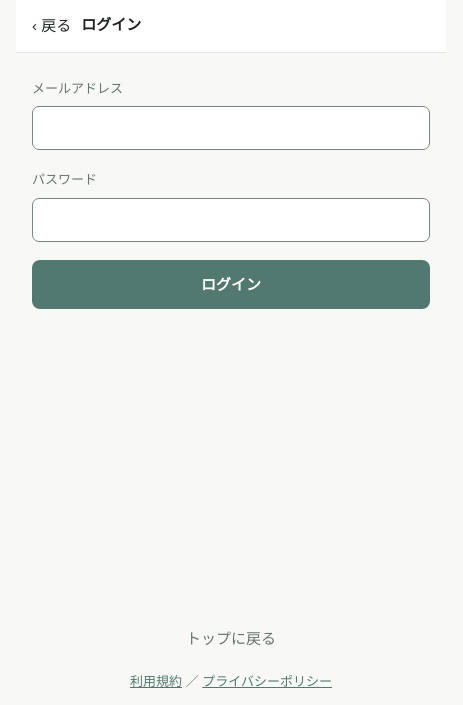
Test: S-02 › 失敗したら同じ画面にエラーを表示し、入力内容を消さない
Type "user@example.com" into the field with id "s02-email" at coordinates (231, 128), box [32,106,430,150]
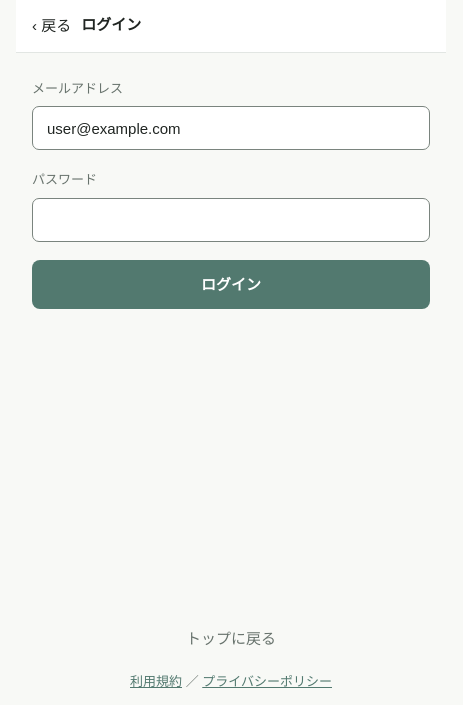
Type "wrong-password" into the password field with id "s02-password" at coordinates (231, 220), box [32,198,430,242]
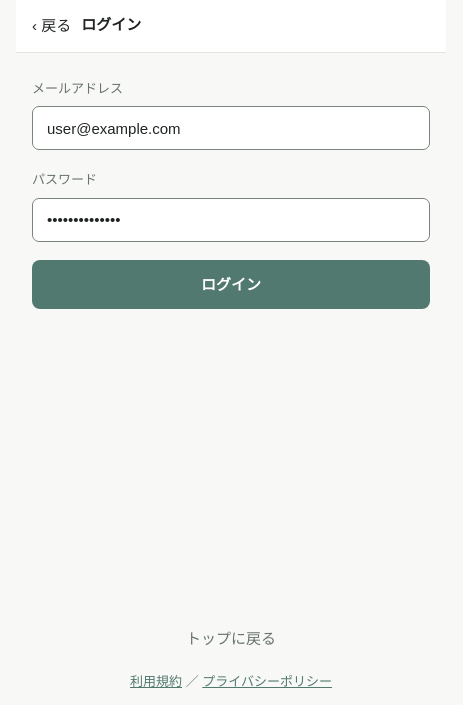
Submit the form, box [32,81,430,309]
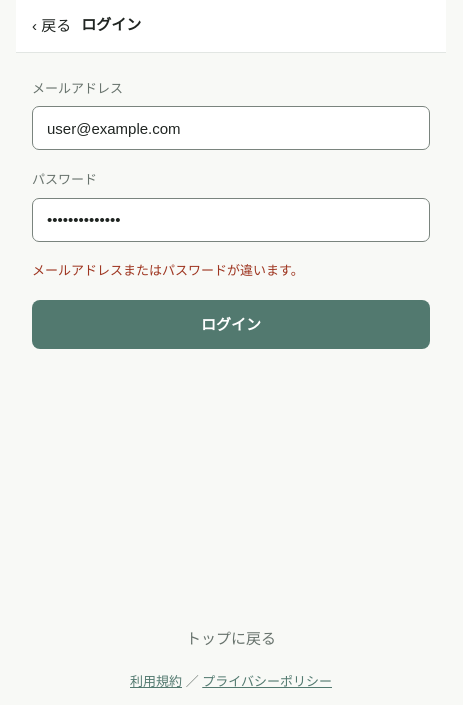
Expected: the text "メールアドレスまたはパスワードが違います" is shown, [32,263,304,278]
